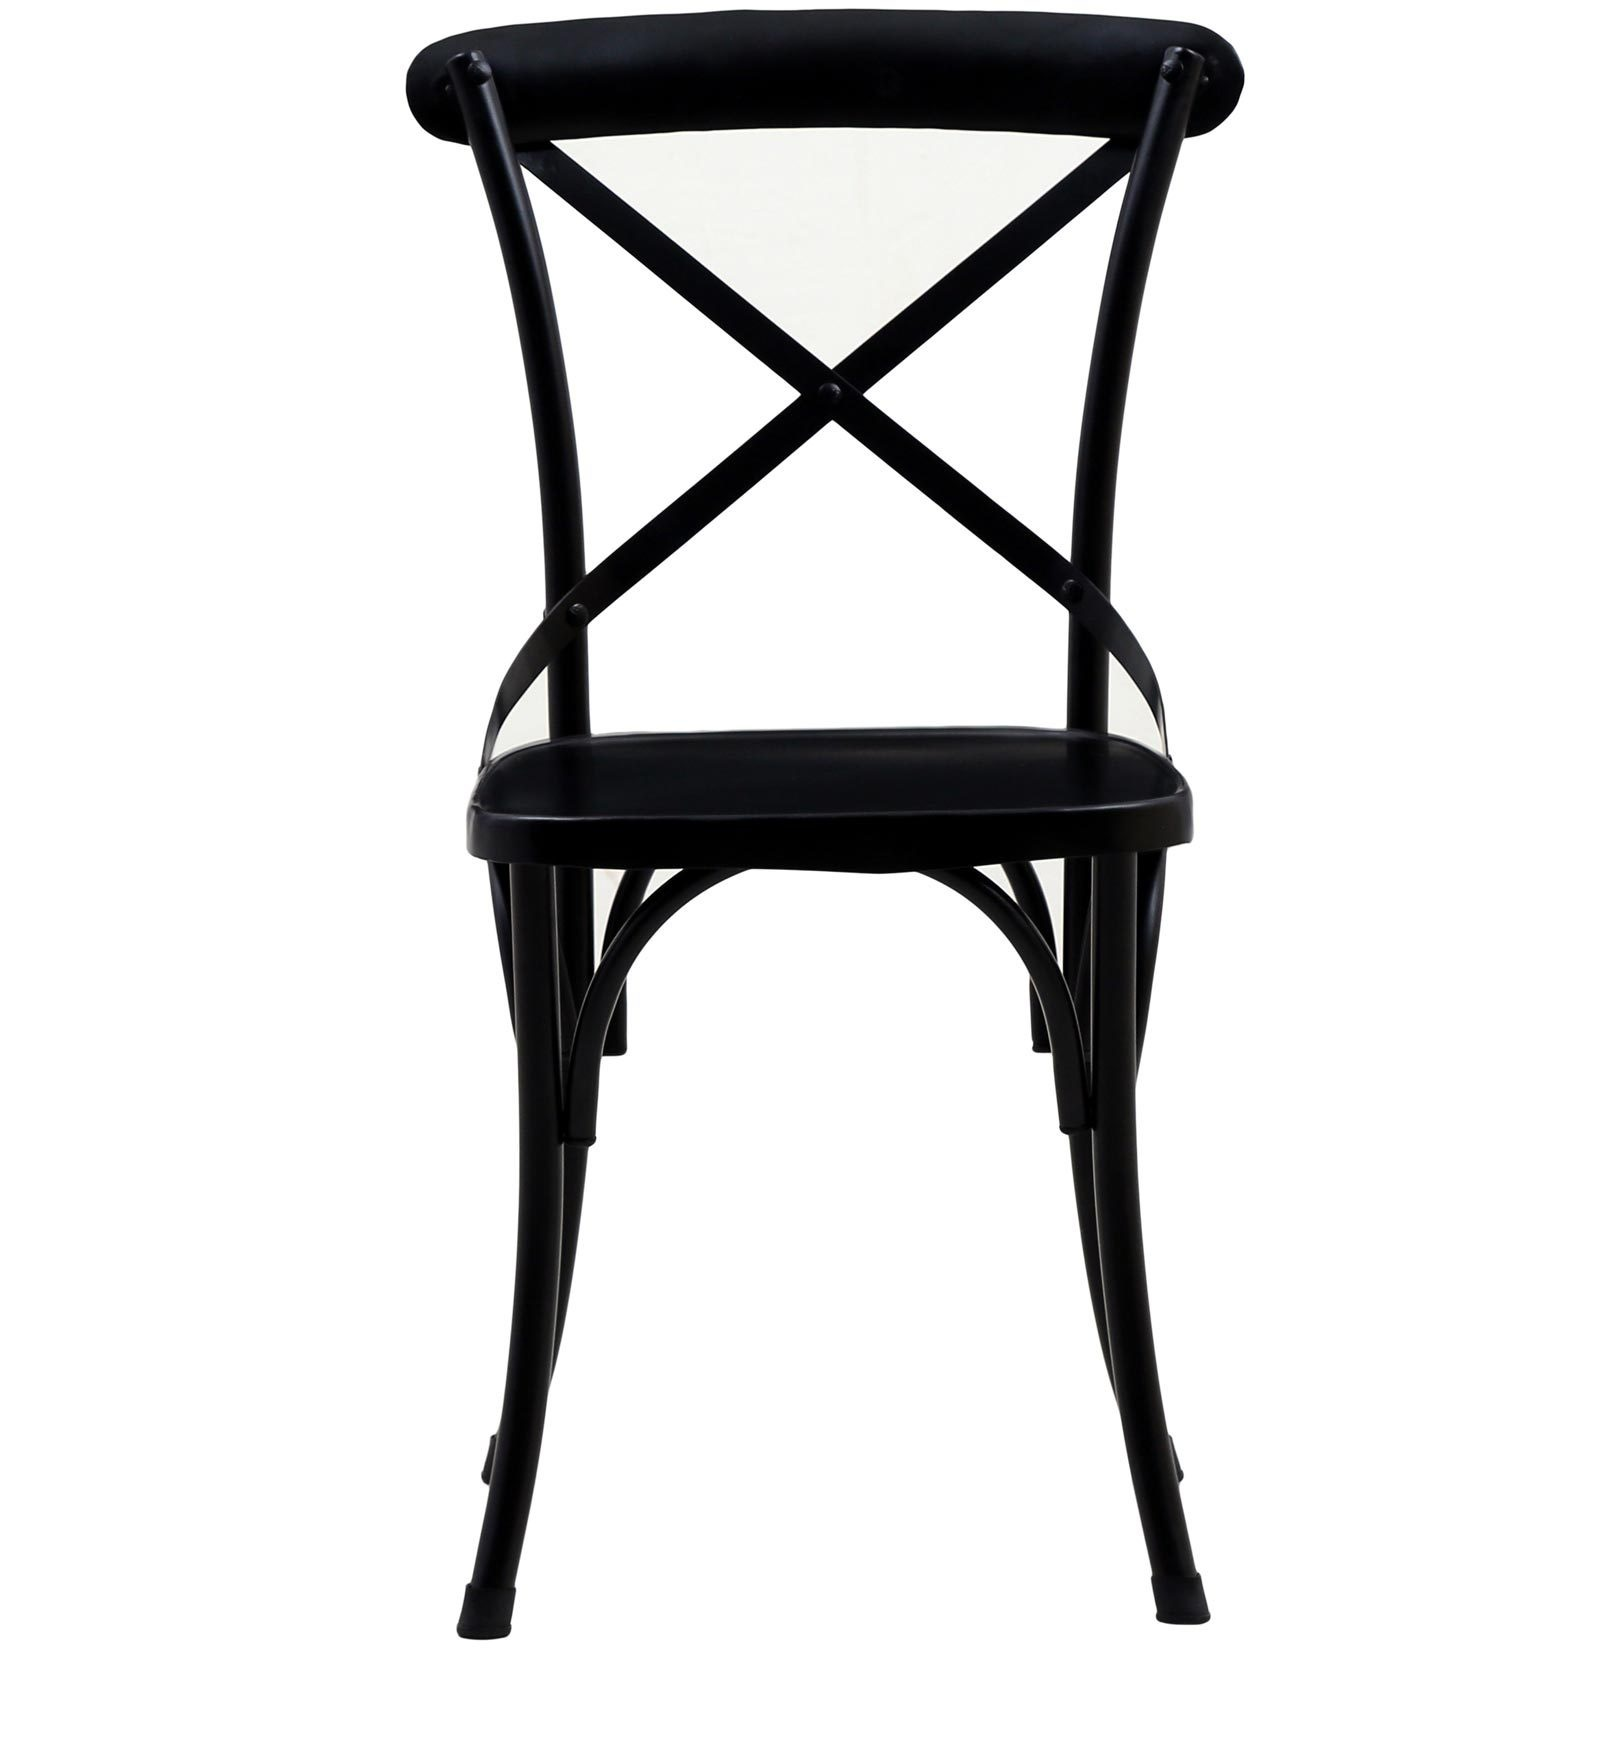Fabian Metal Chair in Black Color by Bohemiana: (352, 12, 1255, 1677)
